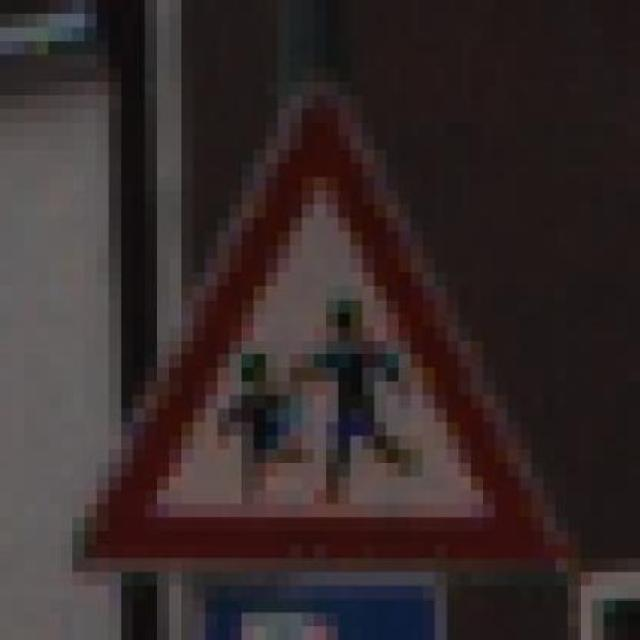Beware of children: (60, 68, 580, 600)
